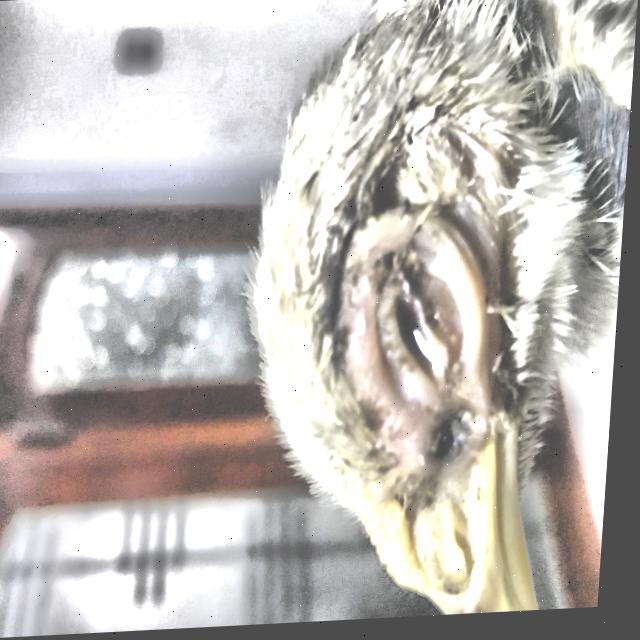Coryza: (232, 14, 638, 628)
